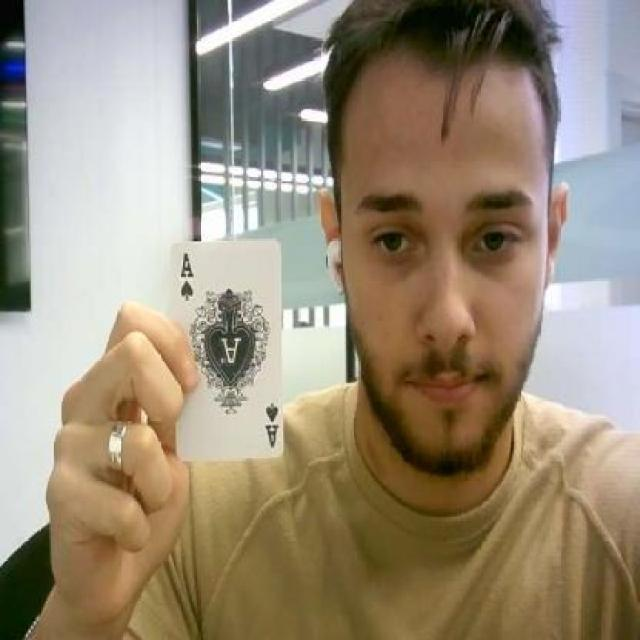AS: (174, 250, 194, 302), (262, 400, 278, 451)
